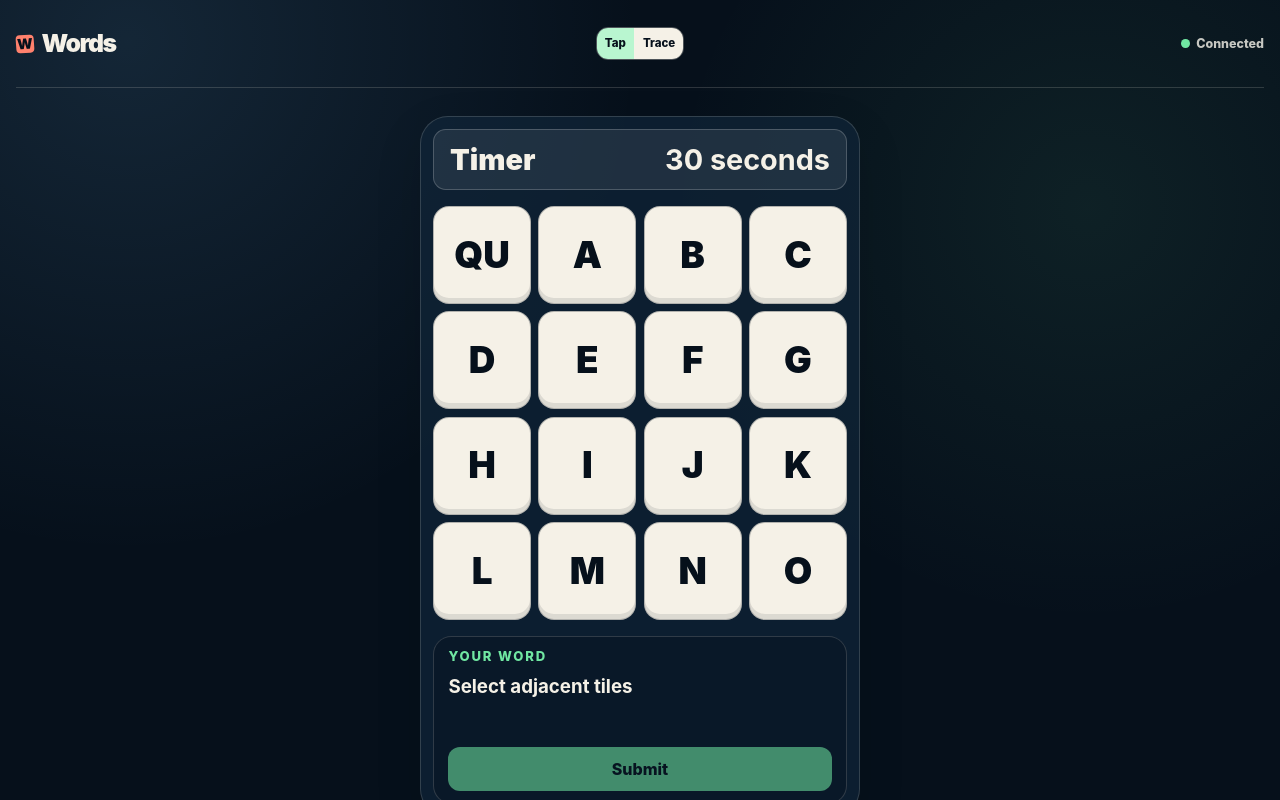
Test case: Stage 4B display and player room routes › prevents client-side non-adjacent selection and supports Tap backtracking
Click the button with aria-label "QU, tile 1" at (482, 255), box [433,206,531,304]
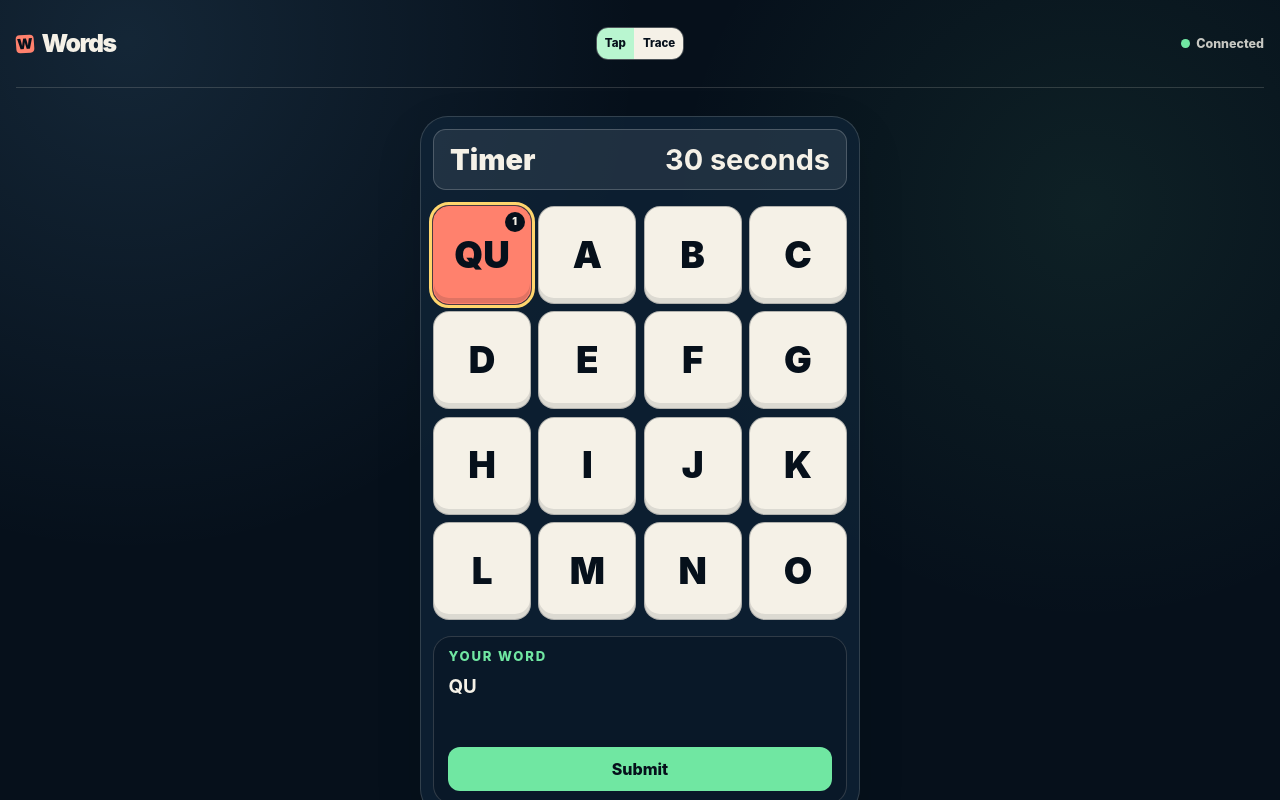
Click the button named "F, tile 7" at (693, 360), box [644,311,742,409]
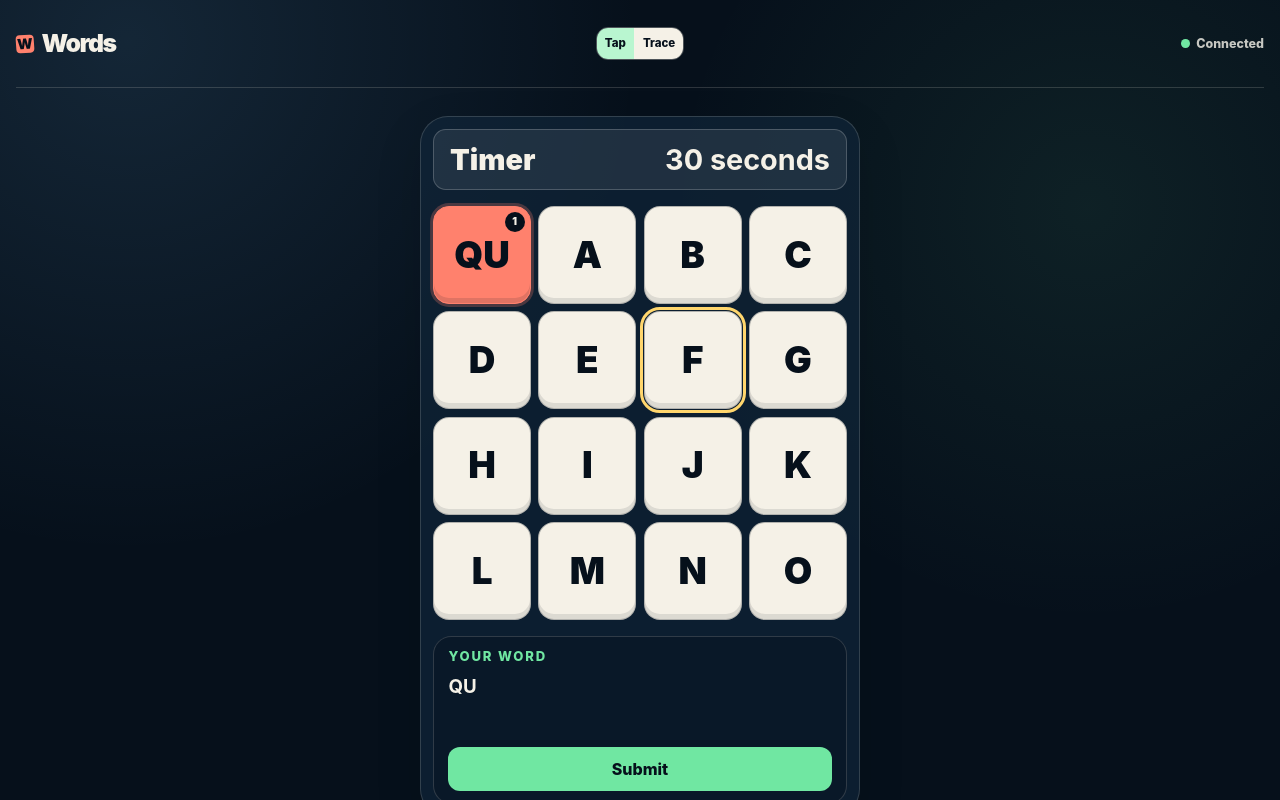
expect the heading "QU" is shown: met, box [448,675,477,698]
Click the button with aria-label "QU, selection number 1" at (482, 255), box [433,206,531,304]
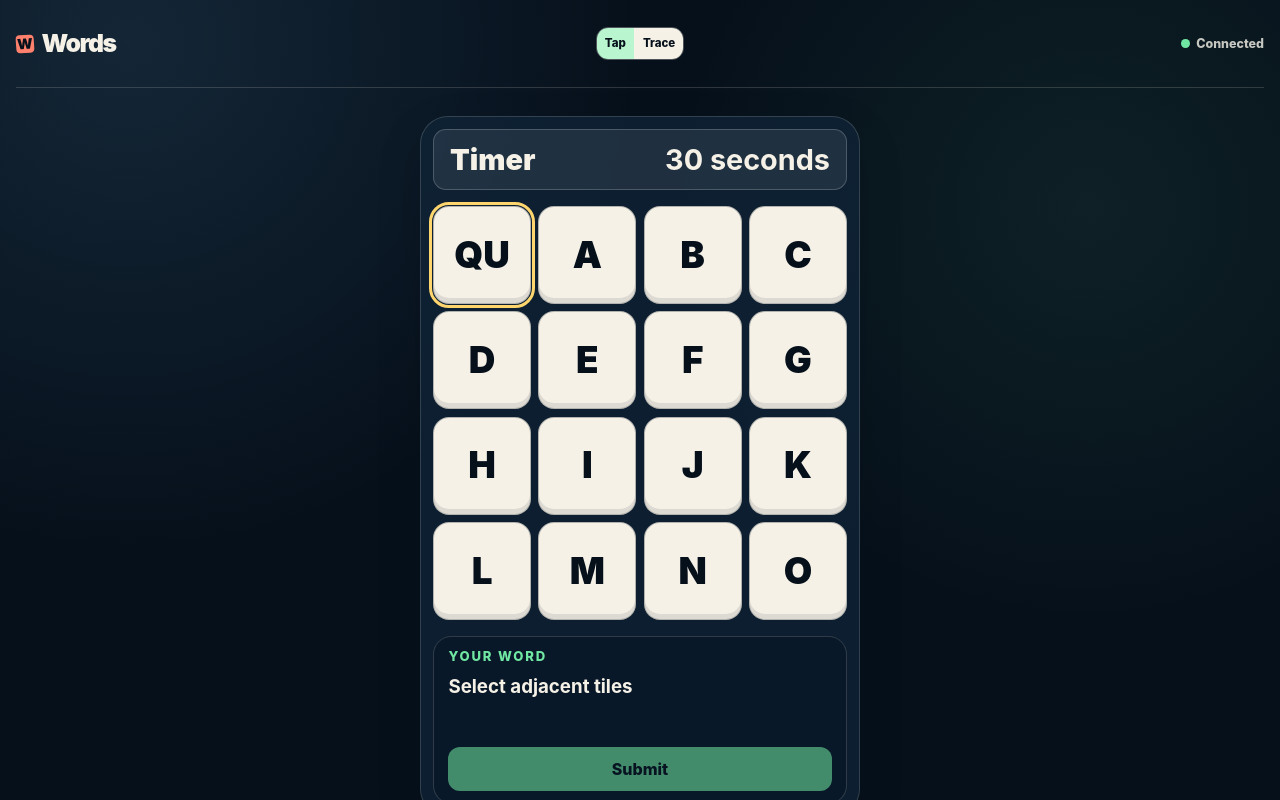
expect the heading "Select adjacent tiles" is shown: met, box [448,675,632,698]
Click the button named "A, tile 2" at (587, 255), box [538,206,636,304]
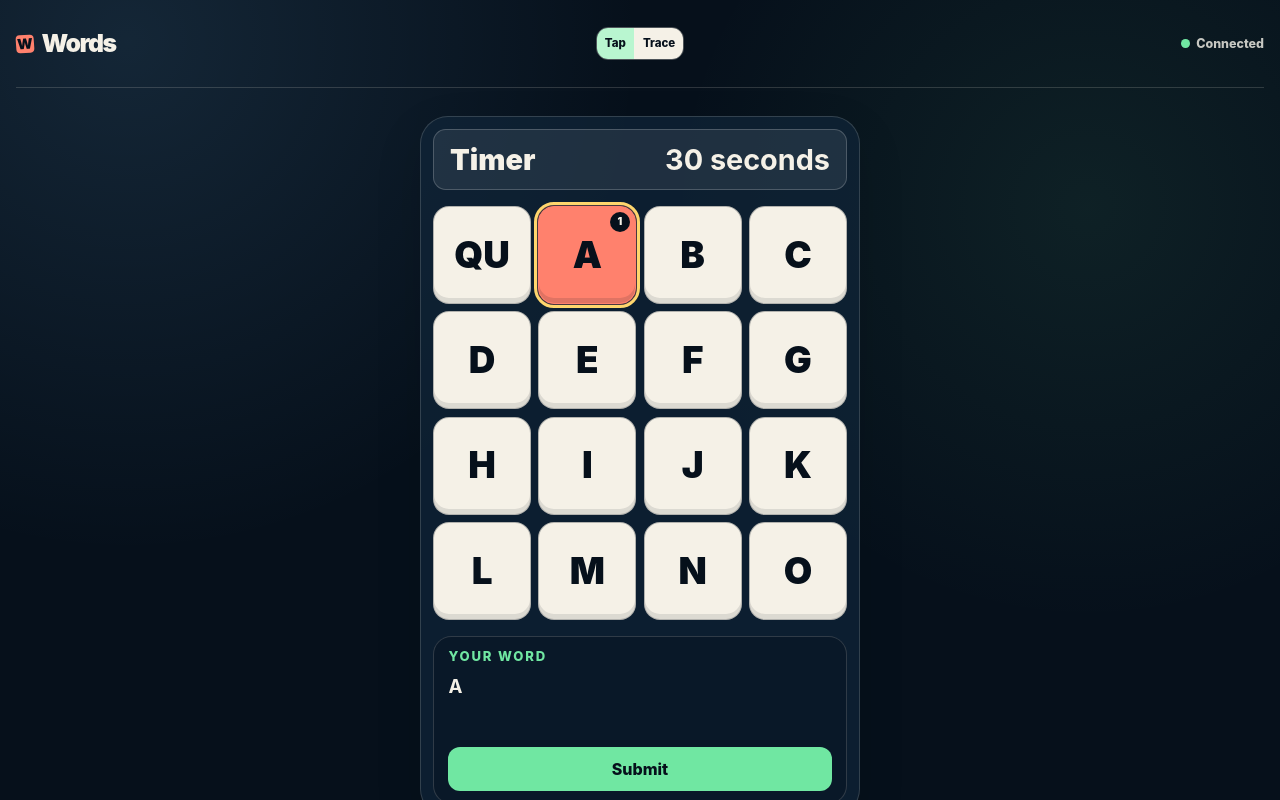
Click the button named "A, selection number 1" at (587, 255), box [538,206,636,304]
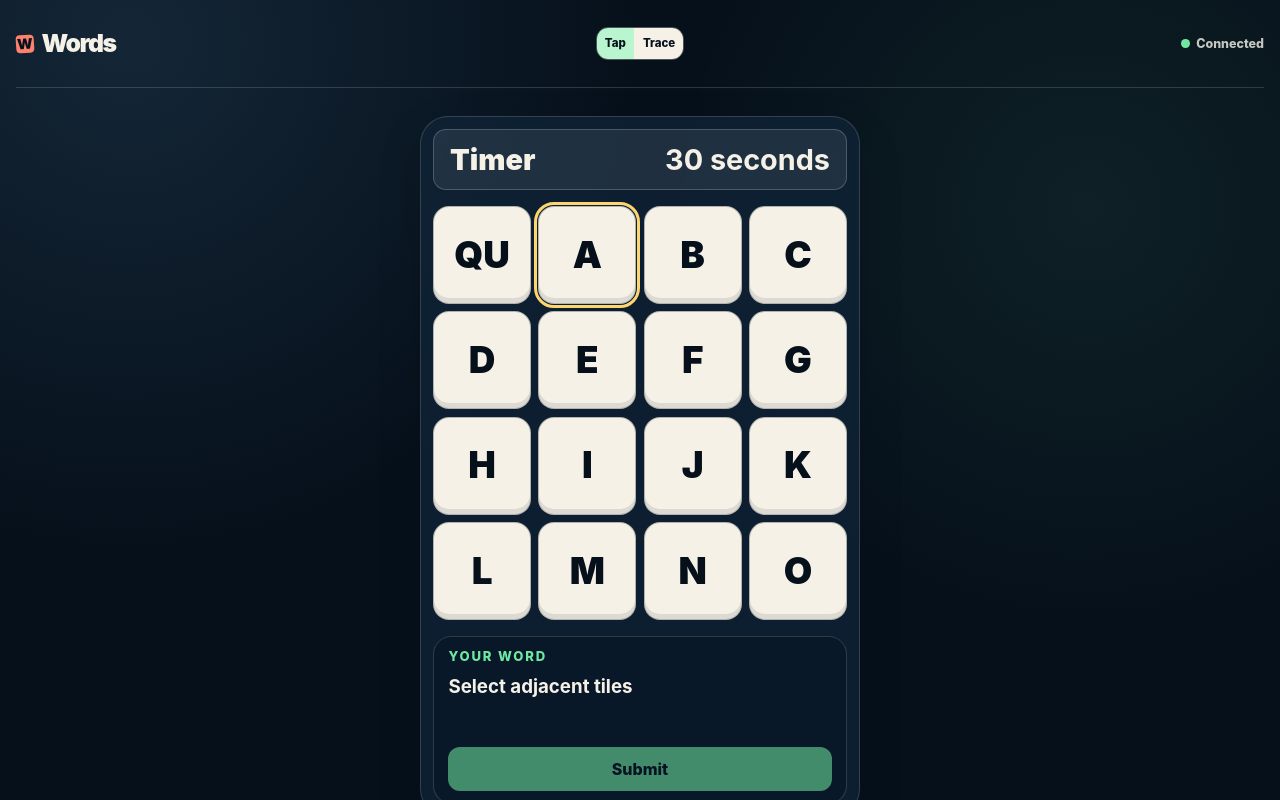
expect the heading "Select adjacent tiles" is shown: met, box [448,675,632,698]
